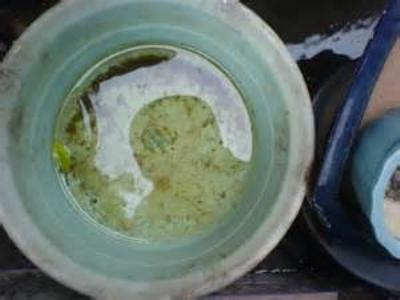bowl: (2, 3, 316, 296)
